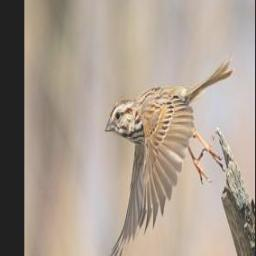Sparrow: (105, 45, 237, 256)
